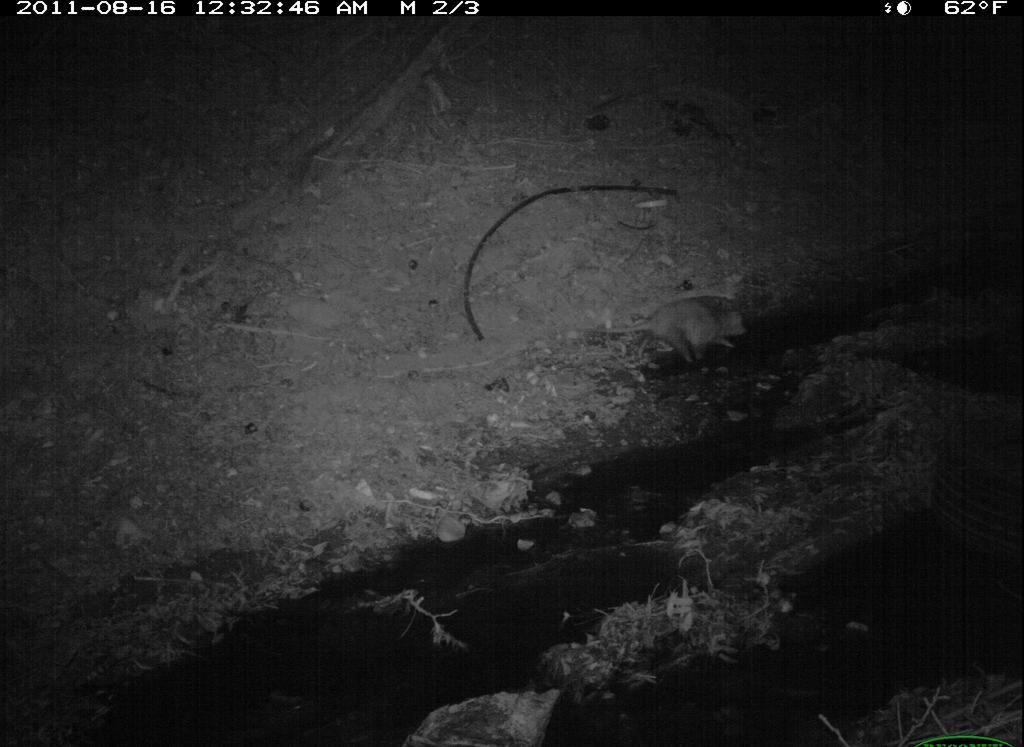opossum: (582, 287, 753, 382)
